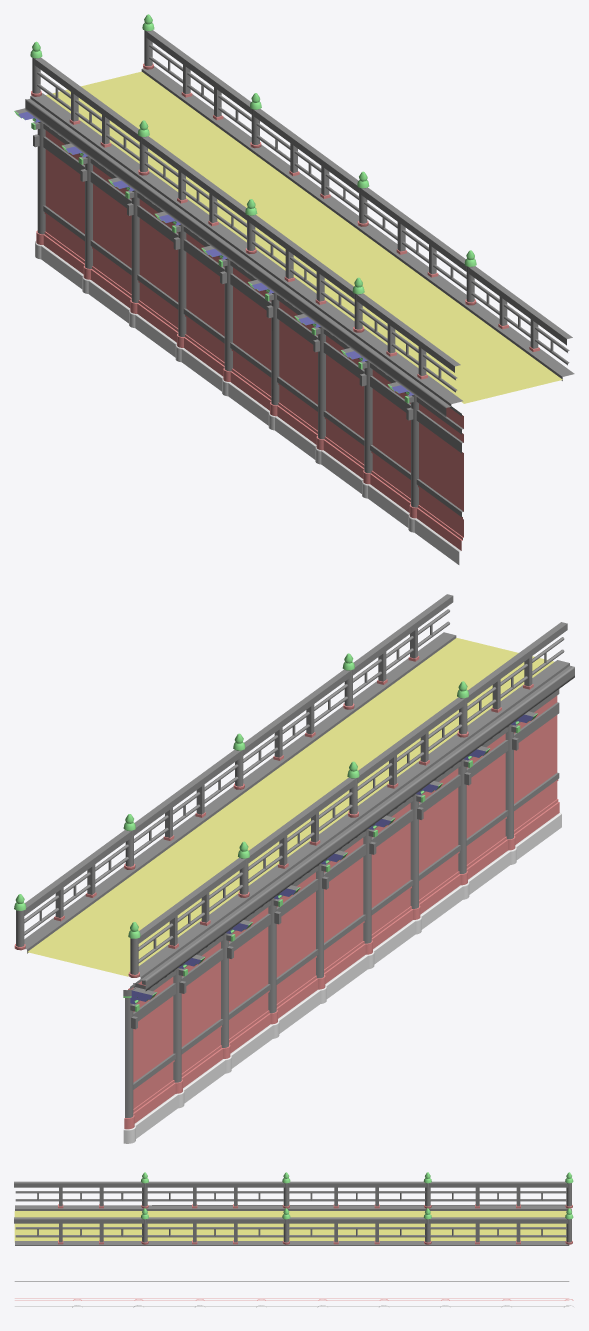
The model's file is SM_ENV_KNVLLG03_Bridge_StraightD.gltf.
3 renders of one model, top to bottom at view 1: azimuth 30°, elevation 25°; view 2: azimuth 150°, elevation 25°; view 3: azimuth 270°, elevation 25°, orthographic. The views are drawn at different scales.
Visible parts, largest first — view 1: SM_ENV_KNVLLG03_Bridge_StraightD; view 2: SM_ENV_KNVLLG03_Bridge_StraightD; view 3: SM_ENV_KNVLLG03_Bridge_StraightD.
Part boxes in pixels (x1=…): SM_ENV_KNVLLG03_Bridge_StraightD: x1=14, y1=14, x2=574, y2=564; SM_ENV_KNVLLG03_Bridge_StraightD: x1=14, y1=594, x2=574, y2=1143; SM_ENV_KNVLLG03_Bridge_StraightD: x1=14, y1=1172, x2=574, y2=1307.
Size of the model in its own units: 5.58 by 8.33 by 29.87.
